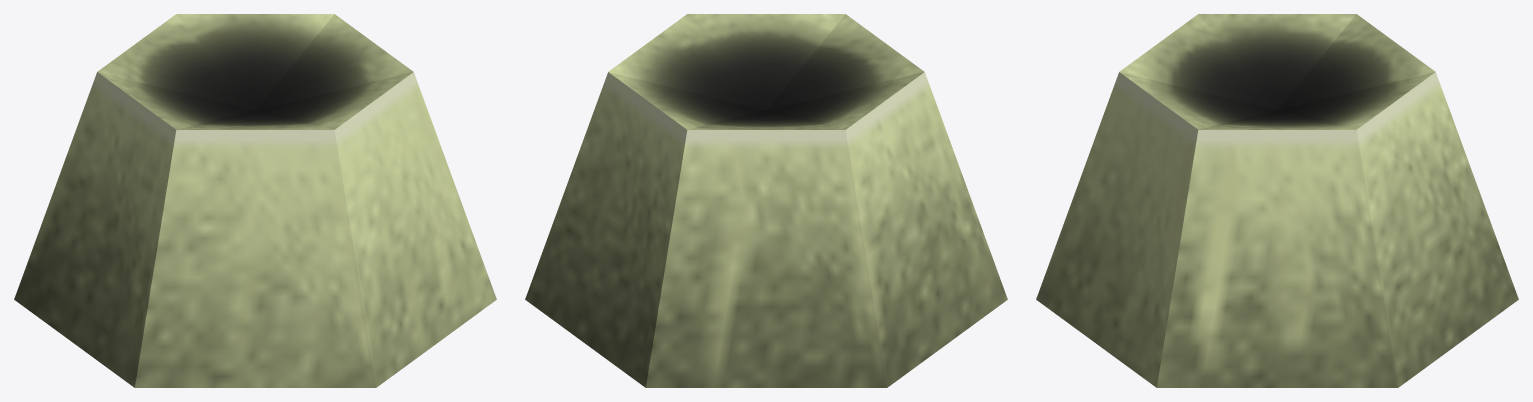
File: Barnacle1.fbx
3 views of the same model, side by side, from view 1: azimuth 30°, elevation 25°; view 2: azimuth 150°, elevation 25°; view 3: azimuth 270°, elevation 25° (orthographic).
Parts seen in each view (by area): view 1: Barnacle1; view 2: Barnacle1; view 3: Barnacle1.
Boxes of the visible parts, x1=… form: Barnacle1: x1=14, y1=14, x2=496, y2=387; Barnacle1: x1=525, y1=14, x2=1007, y2=387; Barnacle1: x1=1036, y1=14, x2=1518, y2=387.
Bounding box in the file's own units: 72.45 × 43.52 × 83.66.
